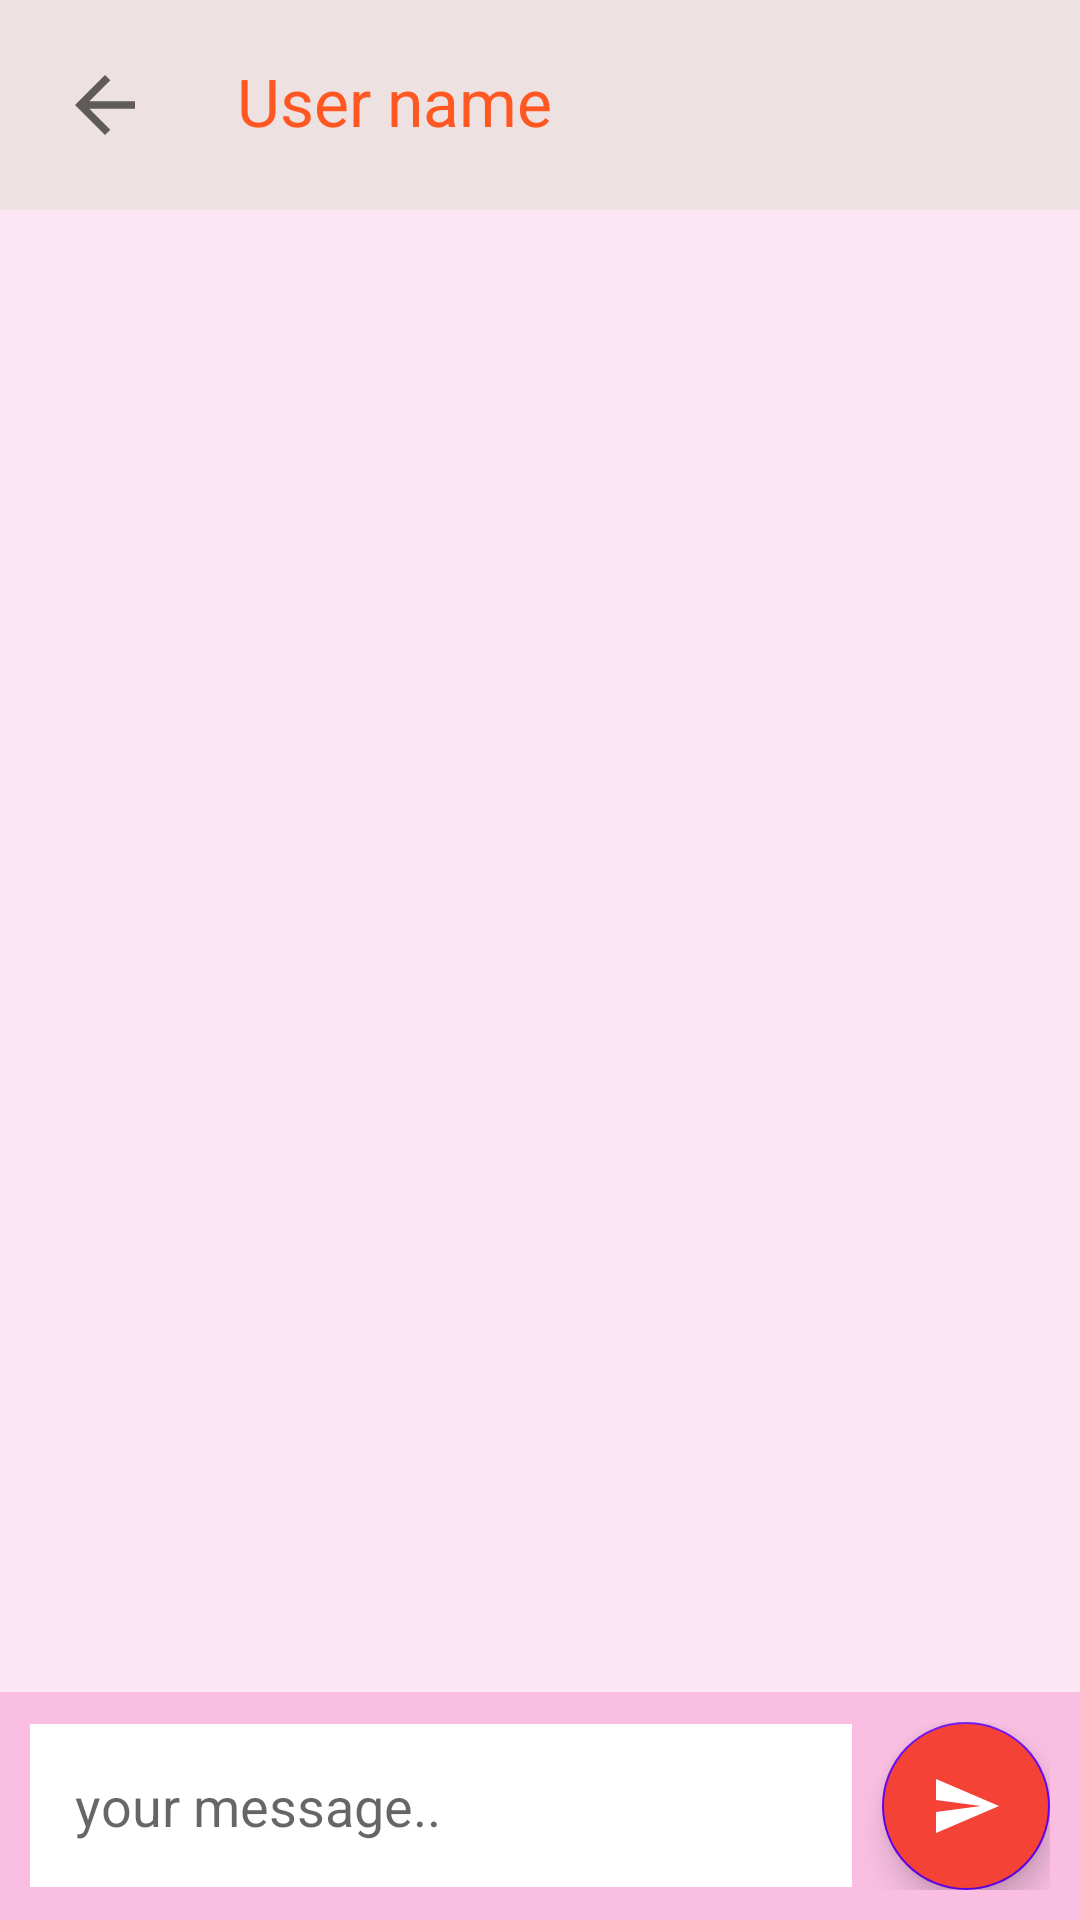

Named icons in this screenshot (1080 x 1920) and their centers, (x,y):
arrow back: (105,105)
send: (966,1806)
